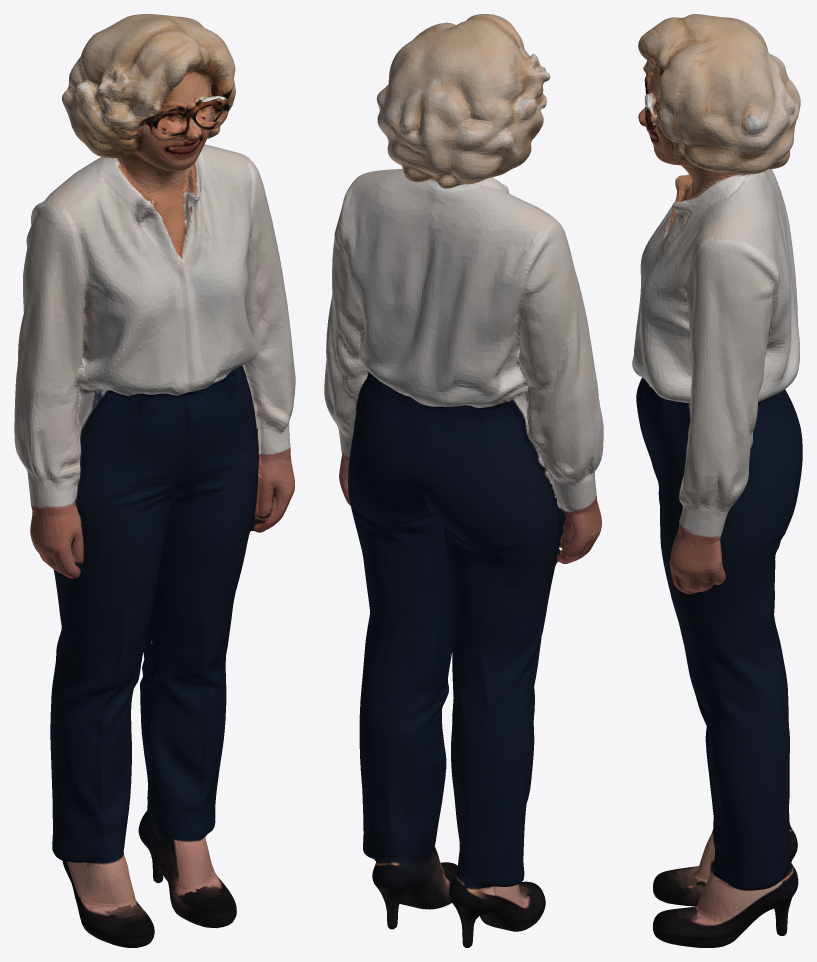
File: stef-front-textured-v1.glb
3 views of the same model, side by side, from view 1: azimuth 30°, elevation 25°; view 2: azimuth 150°, elevation 25°; view 3: azimuth 270°, elevation 25° (orthographic).
Visible parts, largest first — view 1: stef-front-textured-v1.obj; view 2: stef-front-textured-v1.obj; view 3: stef-front-textured-v1.obj.
Boxes of the visible parts, x1,y1,x2,y2 form: stef-front-textured-v1.obj: [14, 14, 295, 947]; stef-front-textured-v1.obj: [324, 14, 603, 947]; stef-front-textured-v1.obj: [632, 14, 802, 947].
Size of the model in its own units: 0.6246 by 1.99 by 0.3442.
Materials: 1 (1 with a texture image).
